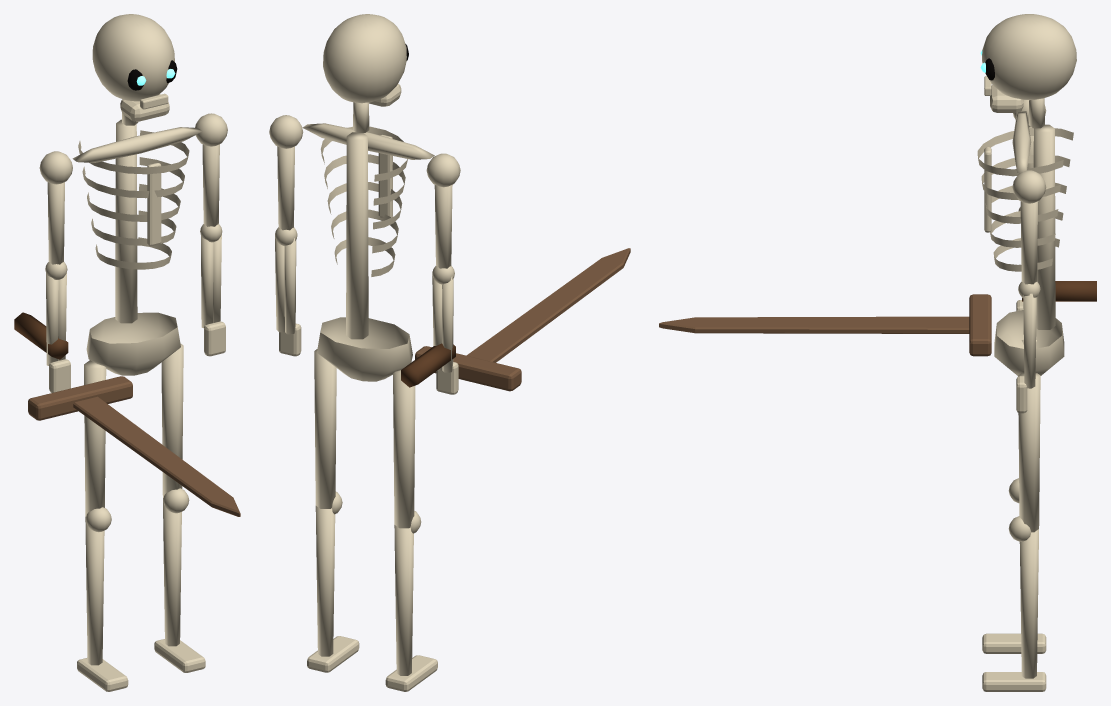
File: skeleton.glb
The picture shows the model from 3 angles, left to right: view 1: azimuth 30°, elevation 25°; view 2: azimuth 150°, elevation 25°; view 3: azimuth 270°, elevation 25°; orthographic projection.
Visible parts, largest first — view 1: skull, pelvis, blade, spine, femur, tibia.001, tibia, guard, femur.001, clav, humerus, humerus.001 (+20 smaller); view 2: skull, spine, pelvis, blade, femur, femur.001, tibia.001, tibia, guard, clav, humerus.001, humerus (+16 smaller); view 3: skull, blade, spine, femur, pelvis, tibia, guard, humerus, footbones, radius, rib0, footbones.001 (+4 smaller).
Part boxes in pixels (x1,y1,x2,y2): skull: [92, 14, 174, 101]; pelvis: [86, 312, 180, 375]; blade: [73, 396, 240, 516]; spine: [115, 119, 137, 323]; femur: [161, 343, 183, 497]; tibia.001: [85, 516, 104, 665]; tibia: [163, 498, 181, 646]; guard: [28, 376, 132, 420]; femur.001: [84, 360, 106, 516]; clav: [72, 127, 202, 162]; humerus: [202, 144, 219, 226]; humerus.001: [47, 182, 64, 264]; skull: [323, 14, 406, 103]; spine: [346, 132, 368, 339]; pelvis: [317, 317, 412, 381]; blade: [466, 248, 630, 362]; femur: [314, 349, 336, 508]; femur.001: [393, 370, 415, 528]; tibia.001: [394, 525, 413, 675]; tibia: [315, 506, 335, 656]; guard: [415, 346, 521, 391]; clav: [302, 123, 434, 159]; humerus.001: [434, 185, 452, 268]; humerus: [277, 146, 294, 230]; skull: [982, 14, 1076, 99]; blade: [659, 316, 969, 333]; spine: [1033, 124, 1055, 329]; femur: [1018, 373, 1040, 532]; pelvis: [994, 310, 1064, 375]; tibia: [1019, 529, 1038, 678]; guard: [969, 294, 991, 356]; humerus: [1020, 201, 1038, 284]; footbones: [982, 672, 1046, 691]; radius: [1023, 293, 1036, 388]; rib0: [977, 128, 1073, 176]; footbones.001: [982, 633, 1046, 653].
Size of the model in its own units: 0.675 by 1.91 by 1.17.
